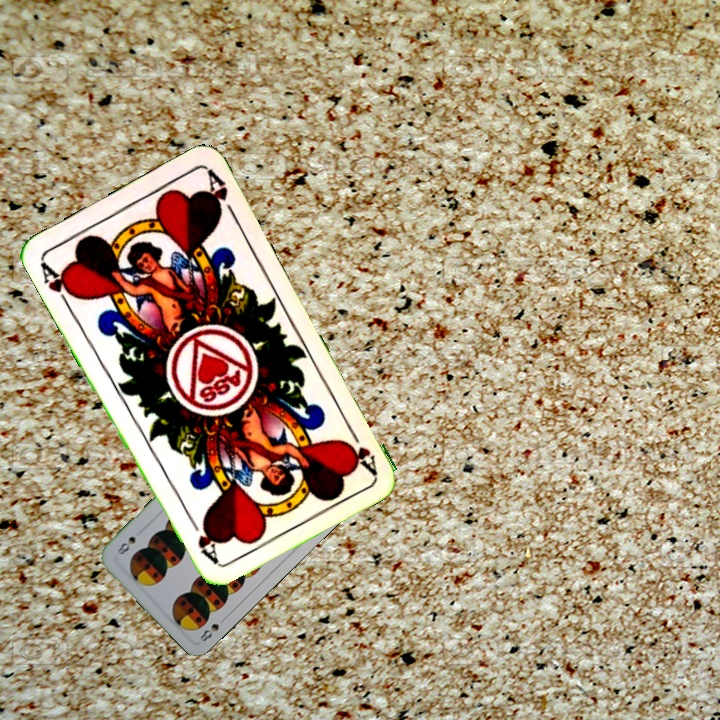HA: (36, 258, 80, 312), (340, 421, 380, 476)
S8: (196, 612, 229, 646)
